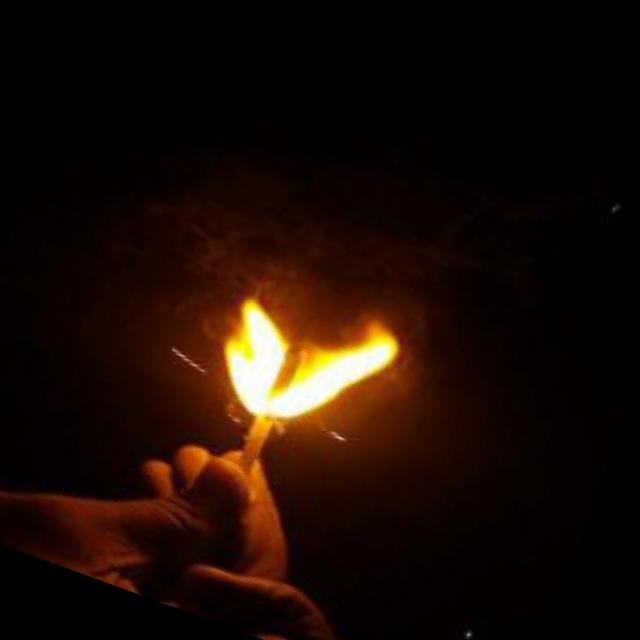fire: (183, 200, 436, 462)
